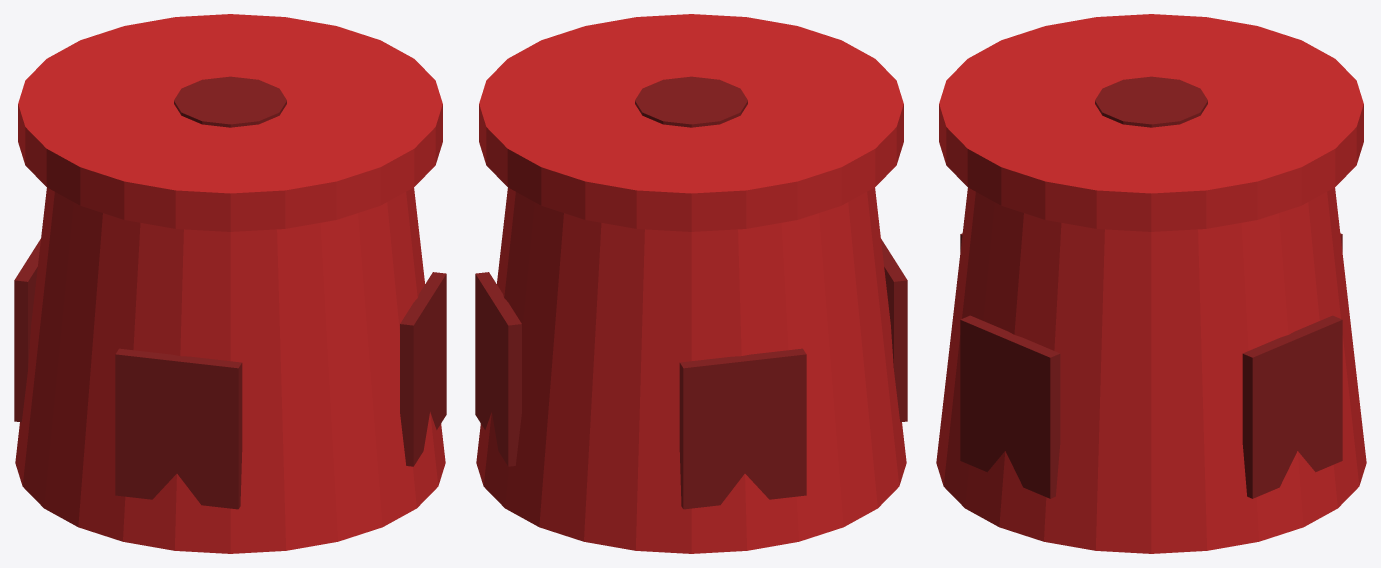
File: hm_red_stool.glb
The picture shows the model from 3 angles, left to right: view 1: azimuth 30°, elevation 25°; view 2: azimuth 150°, elevation 25°; view 3: azimuth 270°, elevation 25°; orthographic projection.
Visible parts, largest first — view 1: Cone, Cylinder, Cube.002, Cube.003, Cylinder.001, Cube.001; view 2: Cone, Cylinder, Cube.001, Cube, Cylinder.001, Cube.002; view 3: Cone, Cylinder, Cube, Cube.003, Cylinder.001.
Part boxes in pixels (<box>): Cone: <box>15,187,445,553</box>; Cylinder: <box>18,14,442,231</box>; Cube.002: <box>115,348,242,509</box>; Cube.003: <box>400,272,446,466</box>; Cylinder.001: <box>174,76,286,127</box>; Cube.001: <box>14,239,40,422</box>; Cone: <box>476,187,906,553</box>; Cylinder: <box>479,14,903,231</box>; Cube.001: <box>679,348,806,509</box>; Cube: <box>475,272,521,466</box>; Cylinder.001: <box>635,76,747,127</box>; Cube.002: <box>881,239,907,422</box>; Cone: <box>936,187,1366,553</box>; Cylinder: <box>939,14,1363,231</box>; Cube: <box>1242,315,1342,498</box>; Cube.003: <box>960,315,1060,498</box>; Cylinder.001: <box>1095,76,1207,127</box>.
Bounding box in the file's own units: 30.4 × 28.25 × 30.4.
